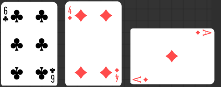4D: (66, 4, 73, 21)
AD: (131, 74, 149, 83), (194, 28, 212, 37)
